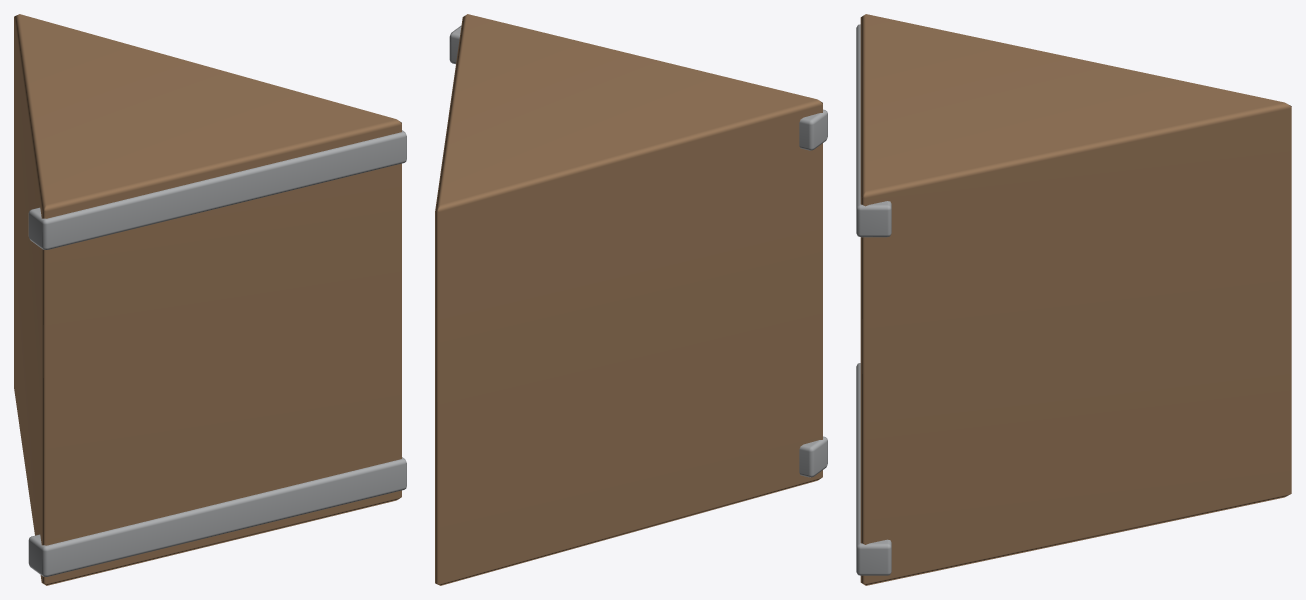
Rendered from Roof.glb.
The picture shows the model from 3 angles, left to right: view 1: azimuth 30°, elevation 25°; view 2: azimuth 150°, elevation 25°; view 3: azimuth 270°, elevation 25°; orthographic projection. The views are drawn at different scales.
Visible parts, largest first — view 1: triangular roof slope, roof edge.001, roof edge; view 2: triangular roof slope, roof edge.001, roof edge; view 3: triangular roof slope, roof edge.001, roof edge.
Boxes of the visible parts, box(x1,y1,x2,y2) form: triangular roof slope: box(14, 14, 401, 585); roof edge.001: box(28, 130, 406, 249); roof edge: box(28, 457, 406, 576); triangular roof slope: box(435, 14, 822, 585); roof edge.001: box(449, 25, 827, 150); roof edge: box(799, 436, 827, 477); triangular roof slope: box(860, 14, 1291, 585); roof edge.001: box(856, 24, 891, 237); roof edge: box(856, 363, 891, 575).
Size of the model in its own units: 0.98 by 0.98 by 0.9793.
